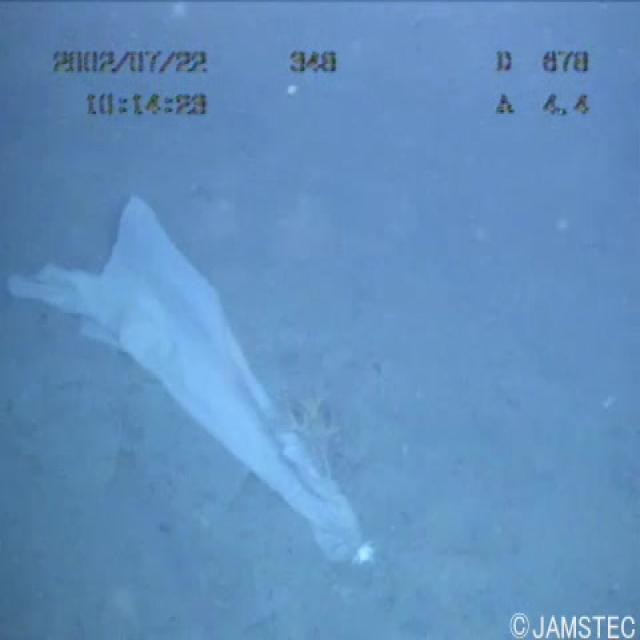plastic: (0, 191, 384, 588)
